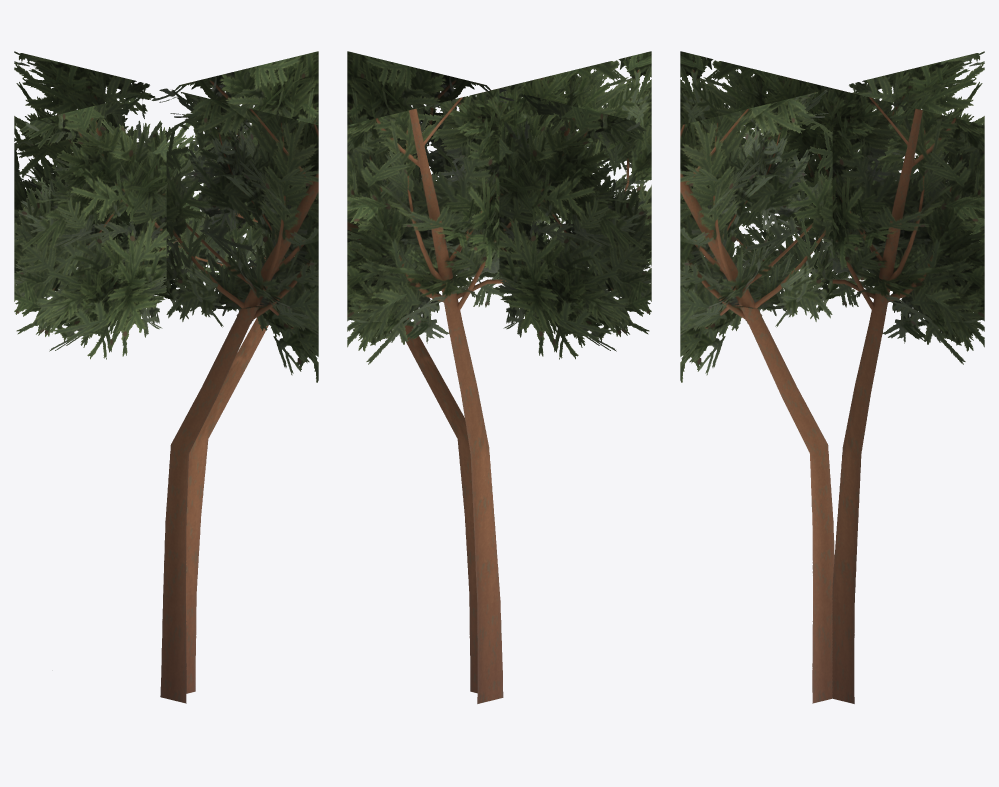
The model's file is borovice_stara_daleko.glb.
3 views of the same model, side by side, from view 1: azimuth 30°, elevation 25°; view 2: azimuth 150°, elevation 25°; view 3: azimuth 270°, elevation 25° (orthographic).
Visible parts, largest first — view 1: borovice_stara_daleko; view 2: borovice_stara_daleko; view 3: borovice_stara_daleko.
Boxes of the visible parts, x1,y1,x2,y2 form: borovice_stara_daleko: (14,51,318,703); borovice_stara_daleko: (347,51,651,703); borovice_stara_daleko: (680,51,984,703).
Bounding box in the file's own units: 11.15 × 21.37 × 9.66.
Materials: 3 (3 with a texture image).
